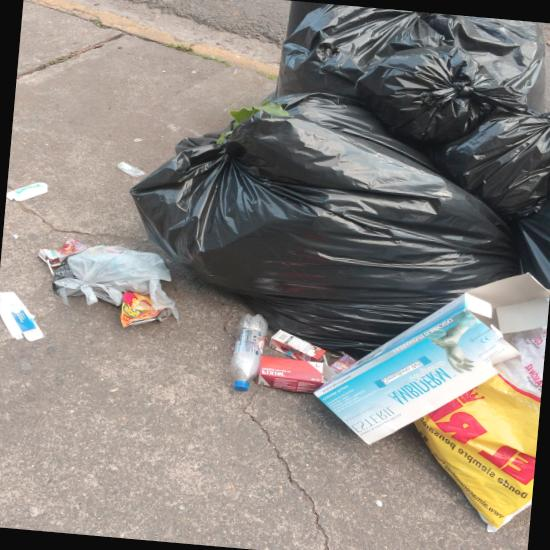Clear plastic bottle: (229, 313, 268, 391)
Crisp packet: (120, 289, 175, 327)
Drink carton: (268, 329, 325, 362), (37, 237, 88, 268), (329, 353, 356, 373)
Garbage bag: (129, 92, 524, 354), (274, 3, 545, 104), (354, 45, 528, 150), (439, 109, 550, 218)
Other carton: (313, 272, 550, 445), (257, 355, 336, 393), (0, 292, 43, 341), (6, 182, 48, 201)
Plastic bottle cap: (233, 382, 249, 391)
Plastic film: (117, 161, 146, 178)
Plastic straw: (46, 259, 53, 276), (322, 354, 327, 365)
Pop tab: (134, 138, 142, 141)
Single-use carrier bag: (412, 326, 547, 531), (52, 245, 175, 310)
